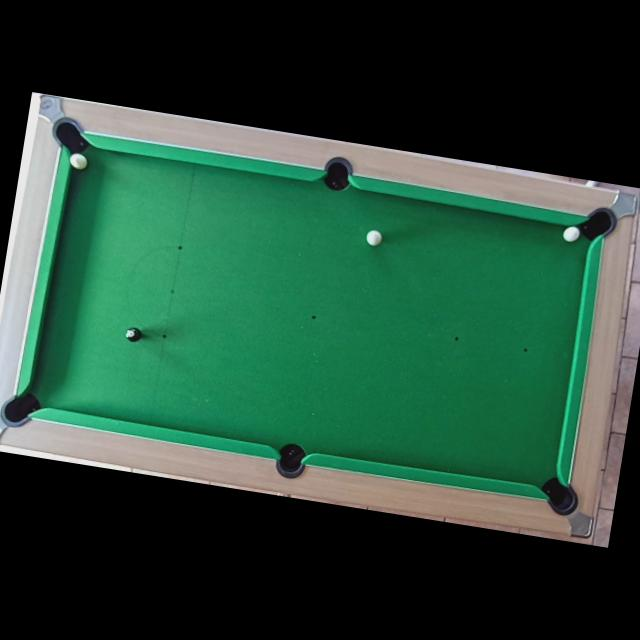Ball: (70, 152, 88, 170), (562, 225, 580, 243), (364, 230, 382, 247), (124, 326, 141, 342)
